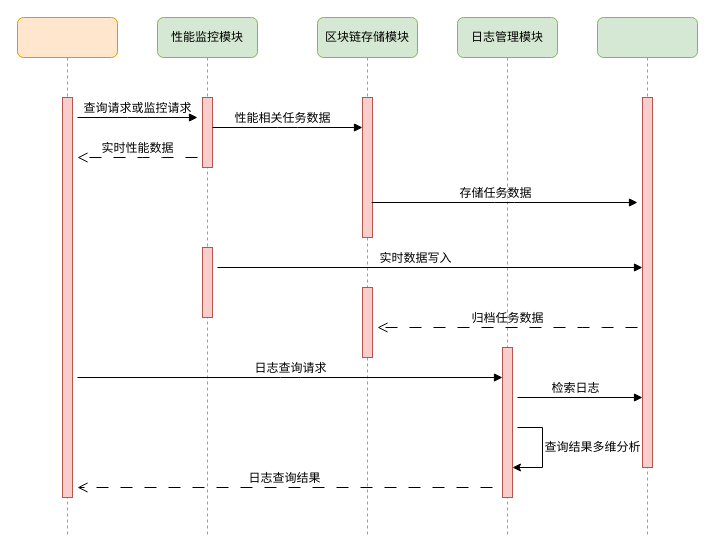
This 715x555 diagram has some shape labels left out. Here are the shapes that lost their labels. From the top down, the box of each, then its label:
(16, 16, 118, 538): 用户
(596, 16, 698, 538): 数据库
